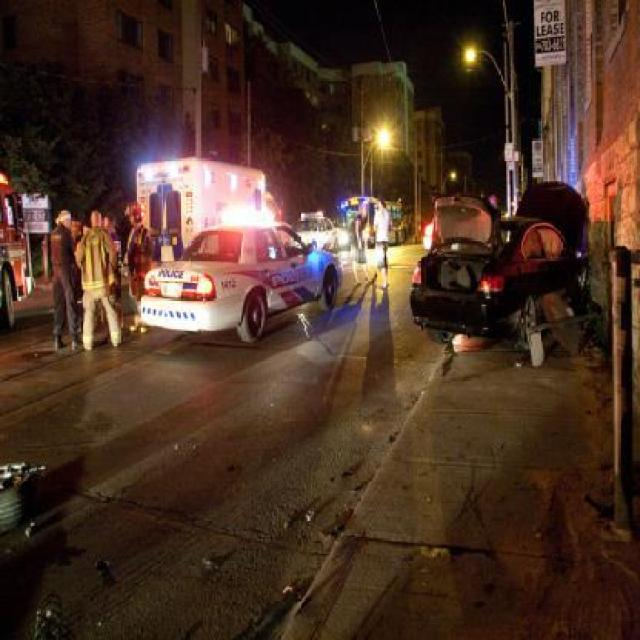Person: (78, 205, 120, 350), (47, 204, 78, 345), (125, 205, 157, 330), (102, 214, 126, 334), (346, 199, 374, 284), (370, 194, 392, 286), (375, 202, 390, 280), (74, 219, 91, 286), (68, 213, 80, 247)
